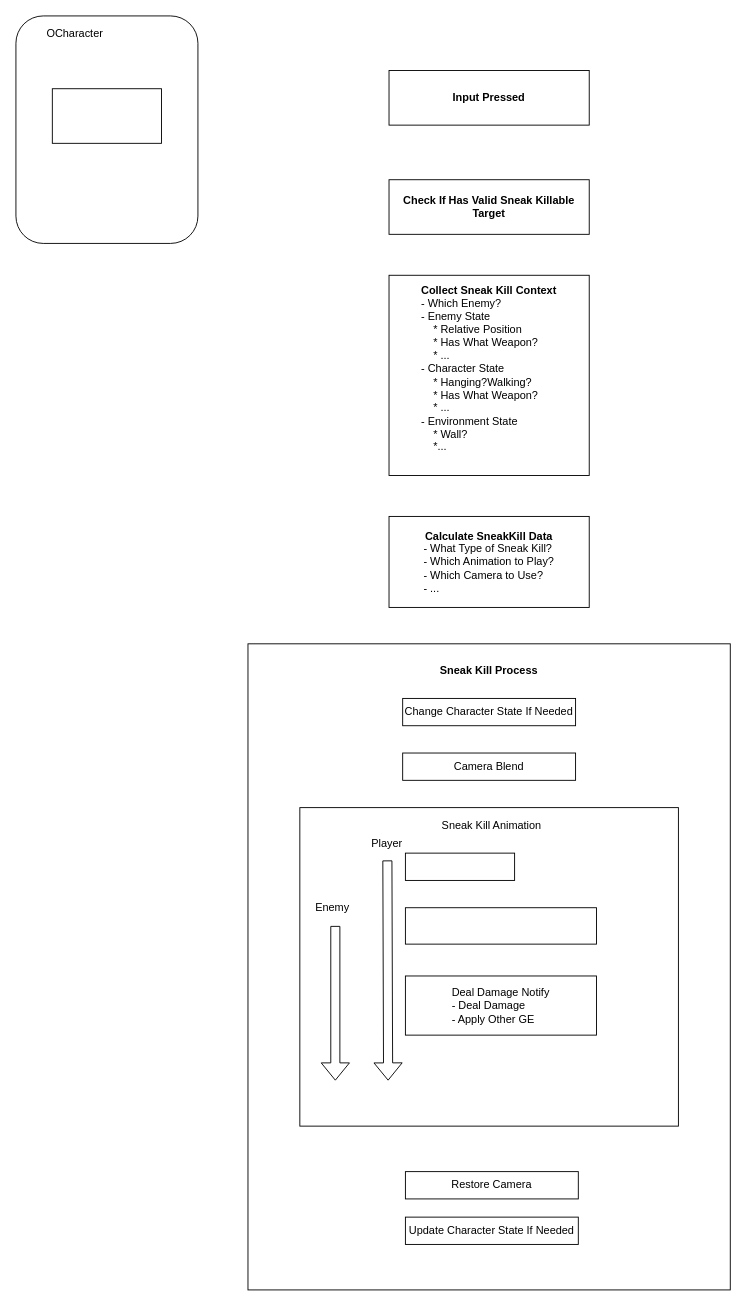
Some shapes in this 746 by 1306 pixel diagram are drawn without their labels. Here are the shapes that lost their labels. From the top down, the box of each, then its label:
(51, 88, 162, 143): SneakKillComp??? (Might Not needed)
(404, 852, 515, 880): Motion Warping
(404, 907, 597, 944): Interact With Enemy Notify - Play Enemy Animation
